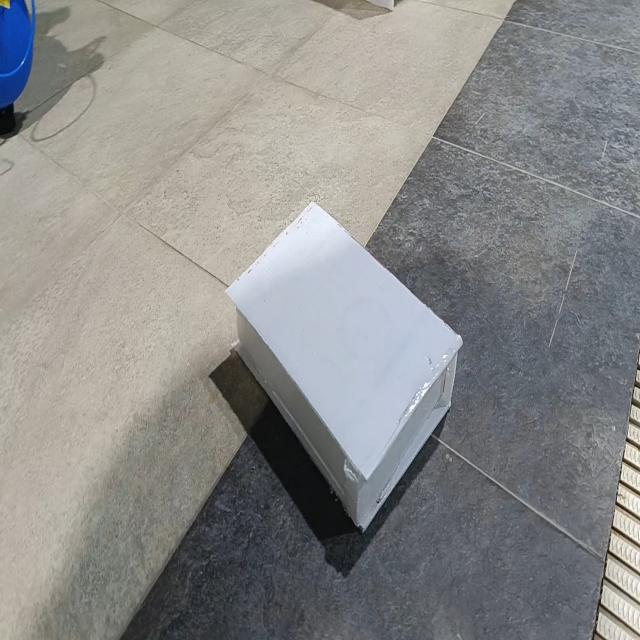Cuboid: (224, 198, 463, 534)
